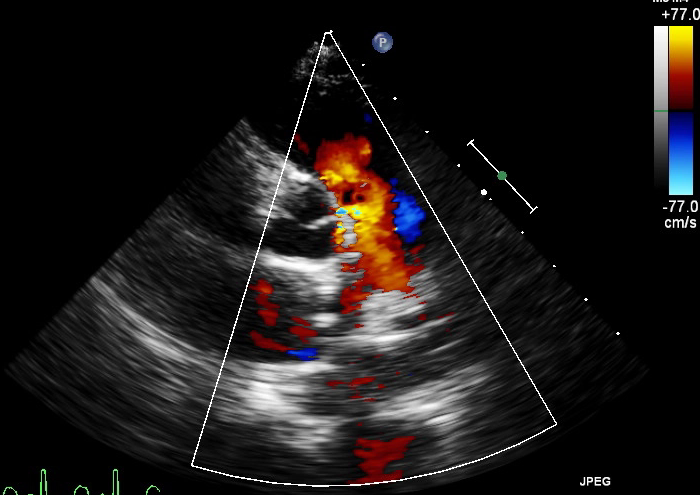PR: (323, 143, 401, 233)
